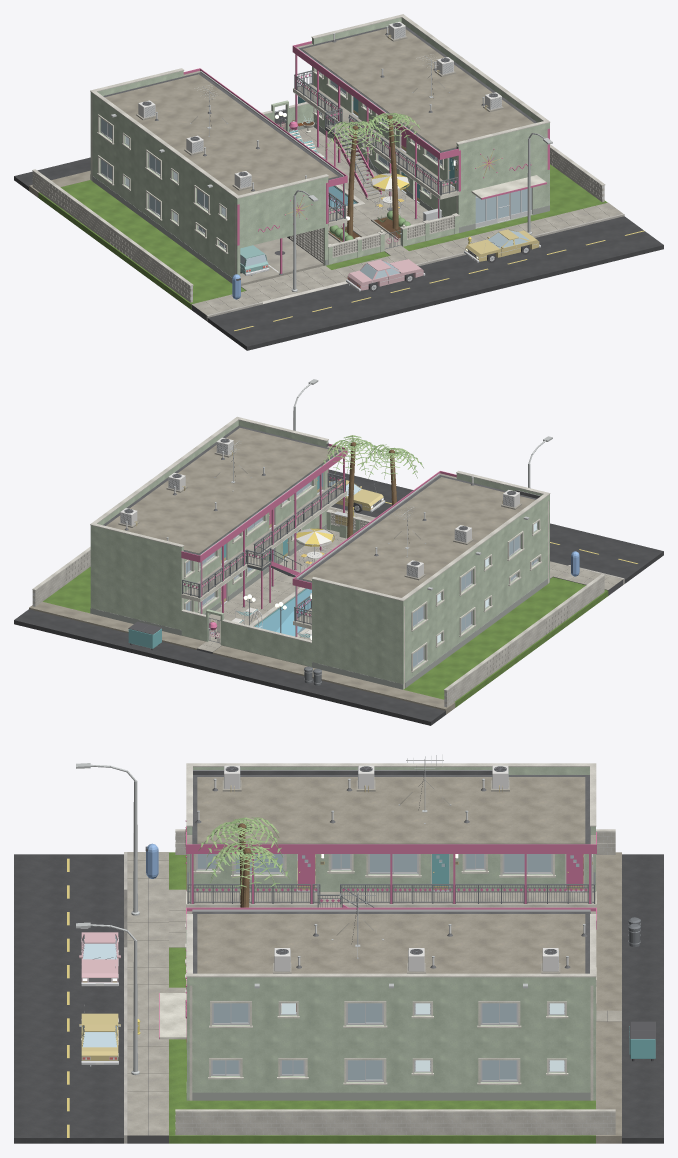
File: building_assembled.glb
The picture shows the model from 3 angles, top to bottom: view 1: azimuth 30°, elevation 25°; view 2: azimuth 150°, elevation 25°; view 3: azimuth 270°, elevation 25°; orthographic projection. The views are drawn at different scales.
Visible parts, largest first — view 1: geometry_20, geometry_4, geometry_0, geometry_2, geometry_39, geometry_67, geometry_26, geometry_21, geometry_22, geometry_1311, geometry_53, geometry_99 (+30 smaller); view 2: geometry_20, geometry_4, geometry_39, geometry_26, geometry_2, geometry_67, geometry_53, geometry_0, geometry_21, geometry_6, geometry_120, geometry_22 (+20 smaller); view 3: geometry_20, geometry_4, geometry_67, geometry_53, geometry_0, geometry_2, geometry_1314, geometry_39, geometry_6, geometry_22, geometry_21, geometry_24 (+31 smaller).
Boxes of the visible parts, x1,y1,x2,y2 form: geometry_20: (105, 28, 533, 195); geometry_4: (14, 110, 663, 350); geometry_0: (192, 125, 622, 315); geometry_2: (38, 164, 607, 309); geometry_39: (90, 98, 325, 245); geometry_67: (312, 66, 547, 190); geometry_26: (90, 139, 328, 277); geometry_21: (90, 17, 549, 204); geometry_22: (90, 14, 550, 198); geometry_1311: (32, 171, 192, 302); geometry_53: (314, 109, 549, 228); geometry_99: (294, 70, 458, 219); geometry_20: (106, 428, 535, 597); geometry_4: (14, 469, 663, 725); geometry_39: (312, 500, 549, 647); geometry_26: (312, 541, 549, 689); geometry_2: (43, 567, 608, 707); geometry_67: (90, 469, 328, 593); geometry_53: (90, 509, 328, 629); geometry_0: (182, 507, 622, 666); geometry_21: (90, 420, 549, 607); geometry_6: (29, 602, 455, 714); geometry_120: (181, 512, 359, 666); geometry_22: (90, 416, 550, 601); geometry_20: (197, 777, 585, 973); geometry_4: (14, 854, 663, 1143); geometry_67: (187, 985, 595, 1042); geometry_53: (187, 1042, 595, 1100); geometry_0: (127, 852, 621, 1135); geometry_2: (169, 852, 595, 1143); geometry_1314: (175, 1112, 615, 1135); geometry_39: (187, 854, 595, 891); geometry_6: (596, 852, 621, 1143); geometry_22: (186, 763, 596, 977); geometry_21: (187, 767, 595, 985); geometry_24: (186, 832, 596, 929).
Bounding box in the file's own units: 32 × 10.82 × 31.
Materials: 96 (21 with a texture image).
